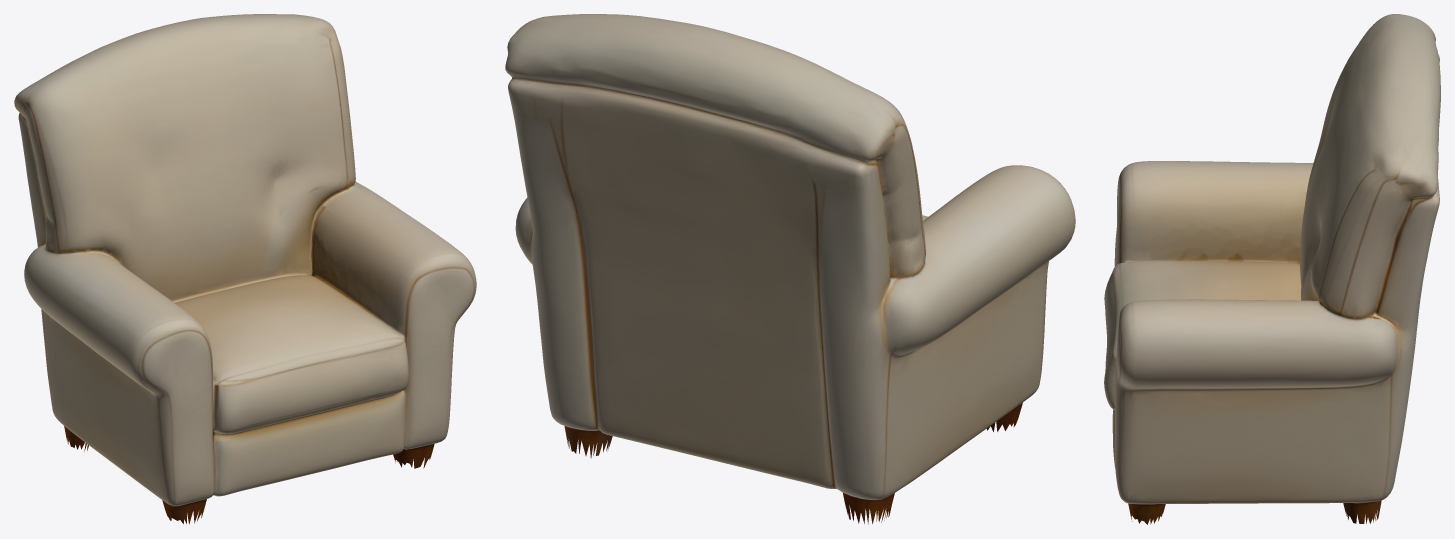
File: armchair.glb
The picture shows the model from 3 angles, left to right: view 1: azimuth 30°, elevation 25°; view 2: azimuth 150°, elevation 25°; view 3: azimuth 270°, elevation 25°; orthographic projection. The views are drawn at different scales.
Parts seen in each view (by area): view 1: patrick-reference-armchair; view 2: patrick-reference-armchair; view 3: patrick-reference-armchair.
Boxes of the visible parts, x1,y1,x2,y2 form: patrick-reference-armchair: [14, 14, 476, 524]; patrick-reference-armchair: [505, 14, 1075, 524]; patrick-reference-armchair: [1104, 14, 1440, 524].
Bounding box in the file's own units: 1.38 × 1.45 × 1.1.
Materials: 1 (1 with a texture image).
